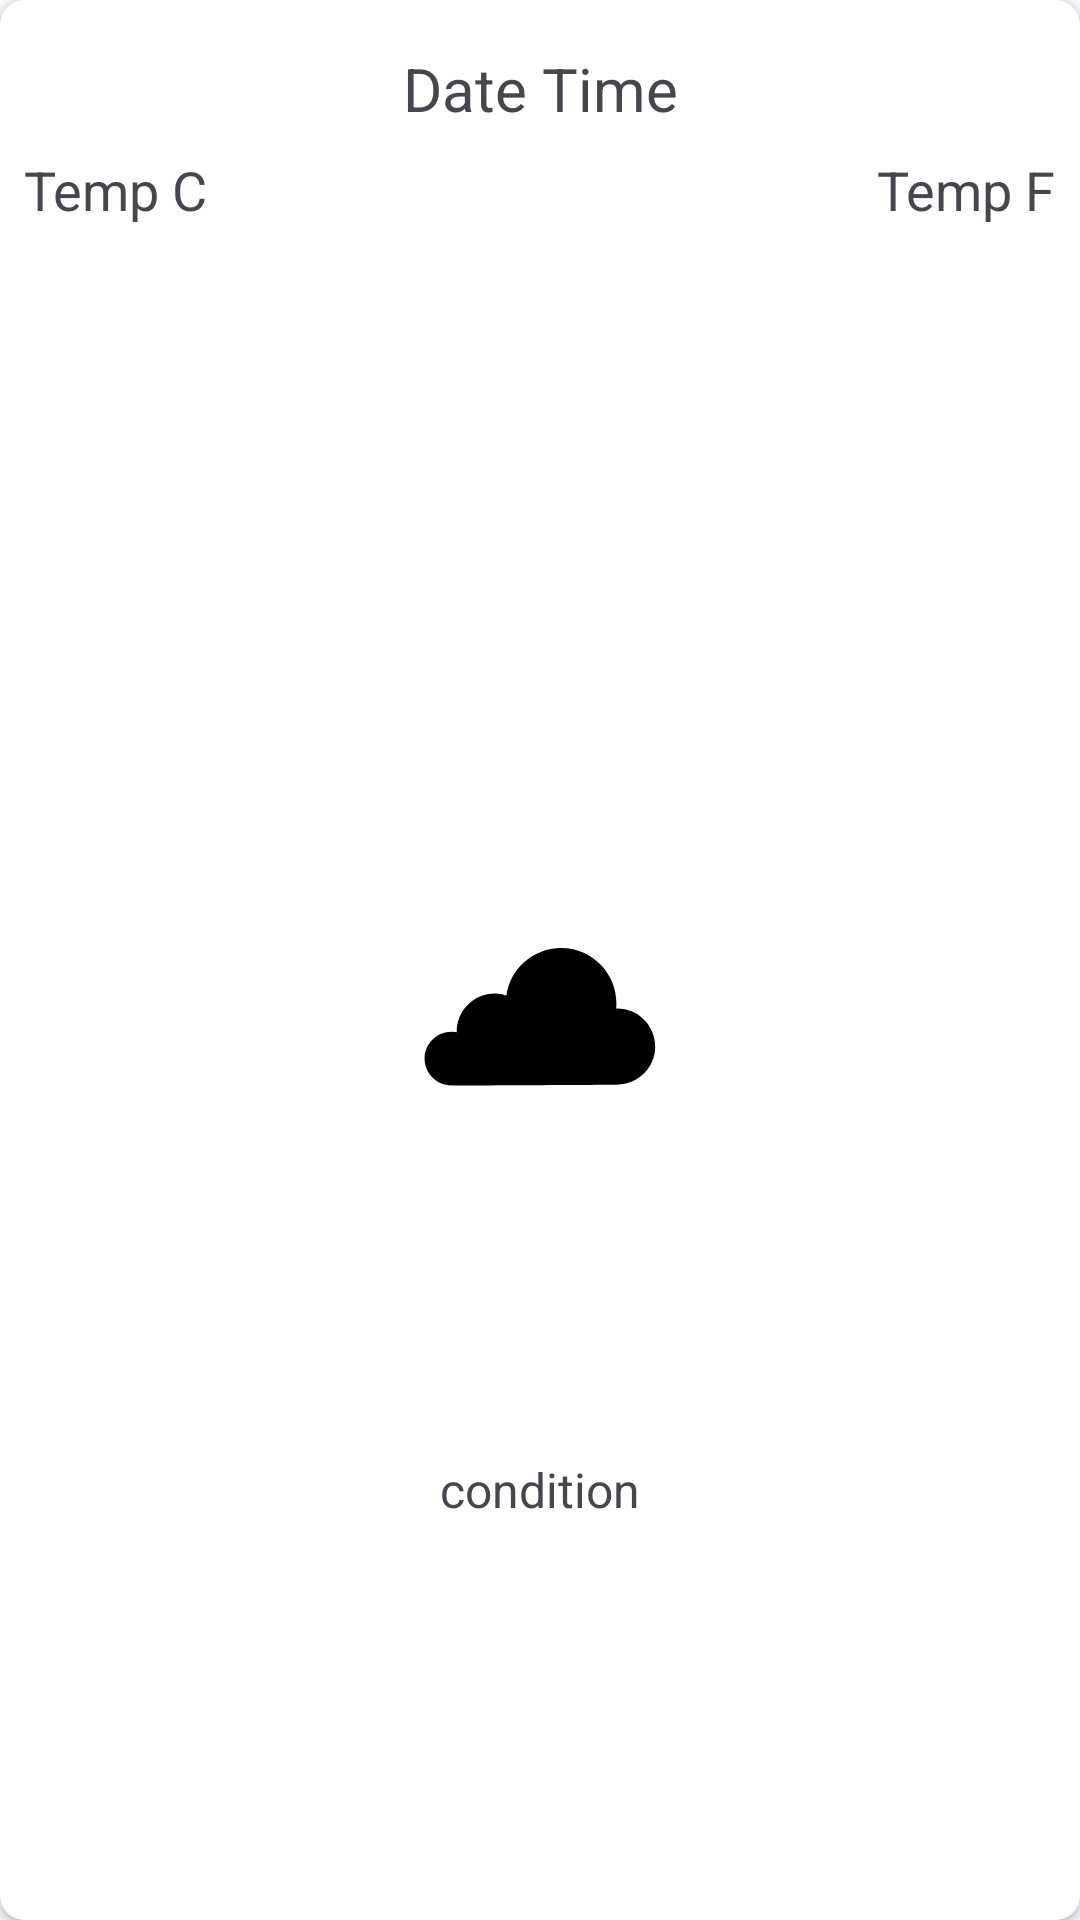

Icon bounding boxes for this 1080*1920 phone screenshot, format bbox=[x1, y1, x2, y2]:
Weather Icon: bbox=[424, 948, 656, 1086]
